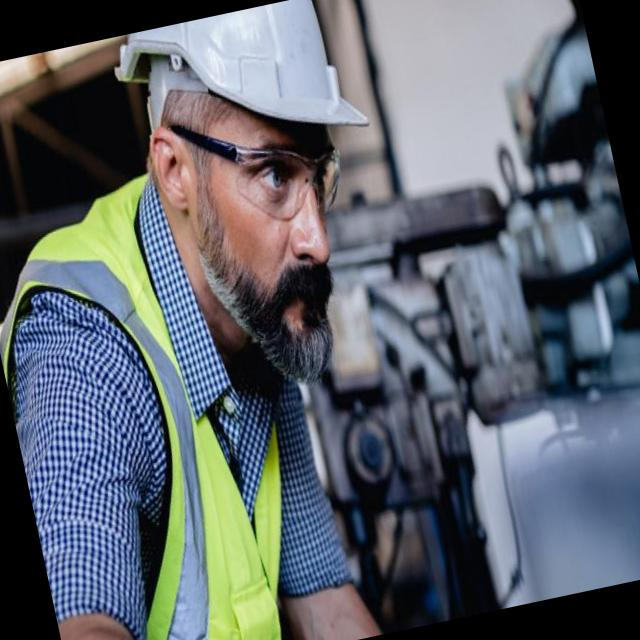Helmet: (91, 0, 391, 181)
Vest: (0, 164, 311, 640)
